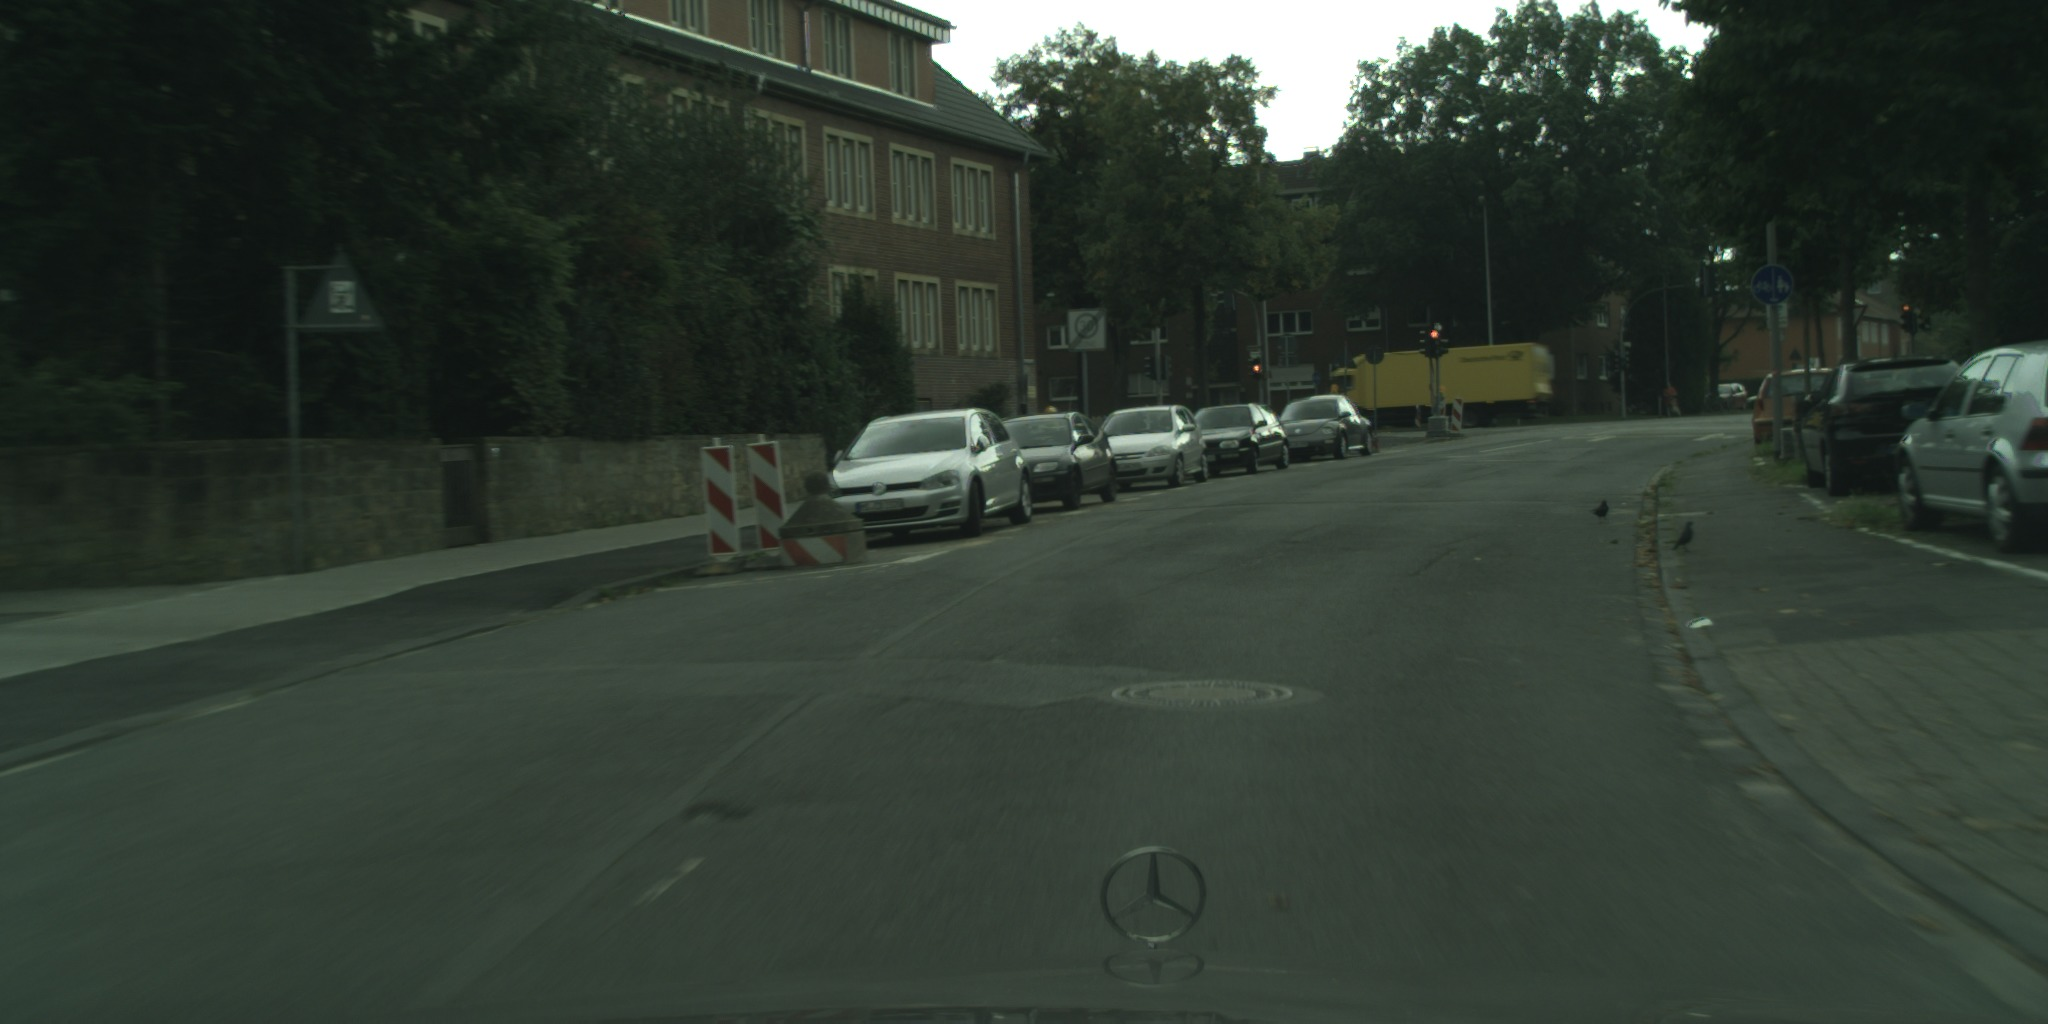car: (1892, 337, 2047, 554), (822, 407, 1033, 539), (1802, 356, 1966, 495), (991, 411, 1117, 512), (1096, 404, 1209, 489), (1747, 368, 1836, 454), (1187, 403, 1290, 475), (1277, 394, 1374, 463), (1705, 383, 1746, 406), (1746, 387, 1764, 413)
person: (1663, 380, 1681, 416)
truck: (1330, 343, 1552, 429)
